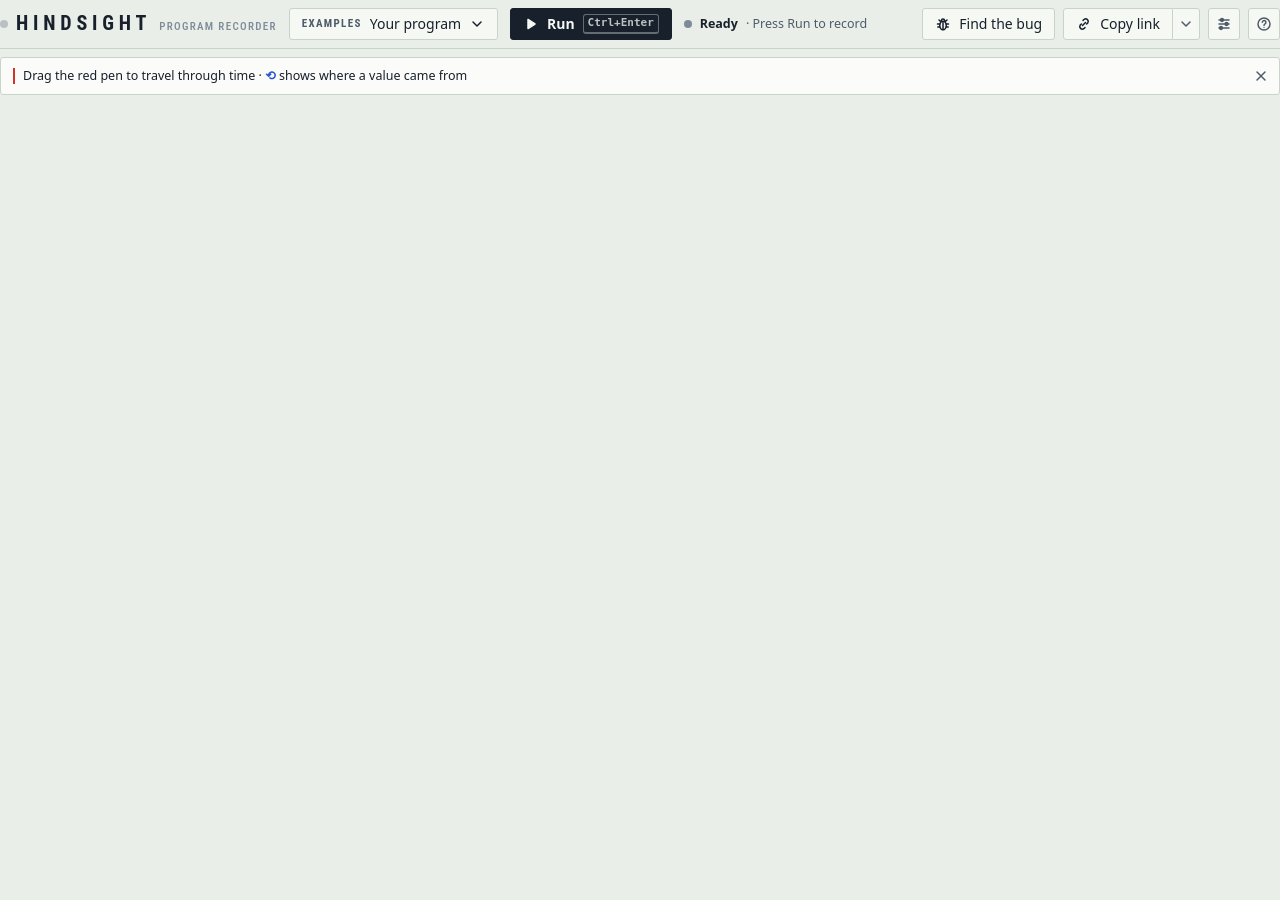
Scenario: Copy link in the desktop app › a program too long for an app link is to be saved as a file instead
Click the button with aria-label "Copy a link" at (1118, 24), box [1063,8,1173,40]
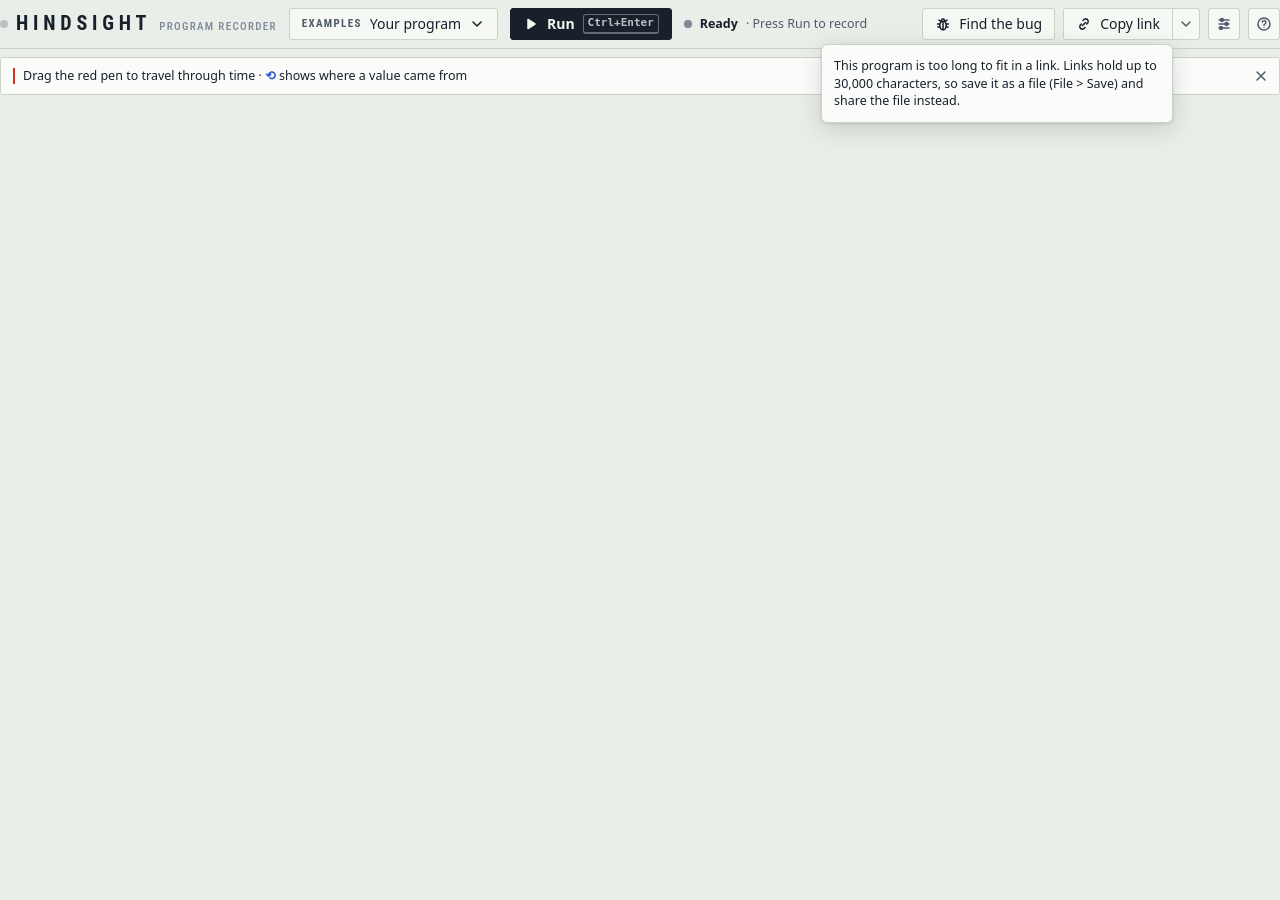
Expected: the dialog named "Link not available" shows "Links hold up to 30,000 characters", [834,57,1157,109]
Expected: the dialog named "Link not available" shows "save it as a file", [834,57,1157,109]
